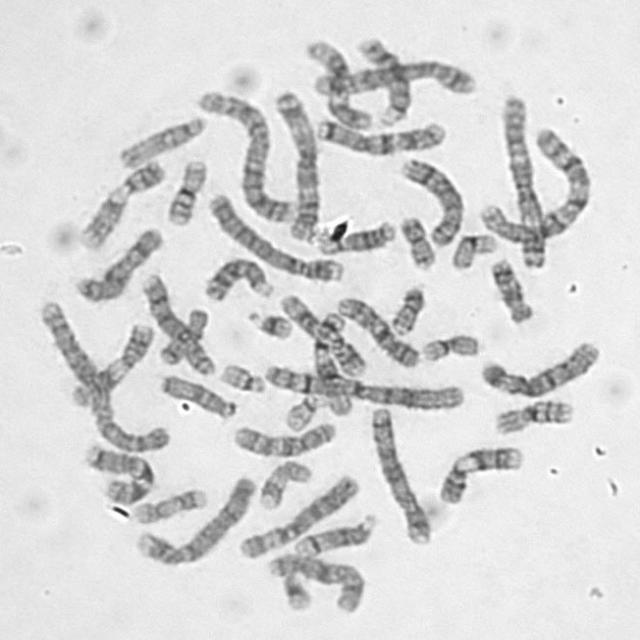A1: (472, 121, 594, 244), (256, 358, 468, 412)
A2: (31, 294, 171, 455), (190, 84, 296, 225)
A3: (496, 88, 550, 272), (268, 84, 323, 242)
B4: (200, 185, 347, 284), (129, 469, 258, 569)
B5: (364, 400, 434, 546), (305, 53, 480, 98)
C10: (331, 289, 421, 370), (226, 415, 338, 460)
C11: (64, 316, 156, 409), (275, 288, 367, 379)
C12: (299, 33, 375, 131), (308, 306, 354, 418)
C6: (232, 468, 362, 560), (473, 334, 602, 400)
C7: (309, 112, 449, 156), (78, 437, 158, 506)
C8: (135, 268, 218, 378), (393, 150, 467, 249)
C9: (71, 151, 167, 252), (432, 438, 526, 506)
D13: (352, 38, 414, 134), (196, 250, 277, 303)
D14: (287, 507, 380, 559), (310, 213, 399, 256)
D15: (112, 109, 209, 170), (153, 368, 239, 421)
E16: (488, 393, 576, 437), (159, 153, 209, 227)
E17: (127, 481, 210, 527), (251, 453, 314, 512)
E18: (484, 253, 536, 325), (152, 303, 210, 367)
F19: (415, 327, 483, 363), (444, 227, 498, 271)
F20: (392, 209, 438, 271), (384, 279, 428, 336)
G21: (240, 303, 296, 341), (275, 565, 315, 613)
G22: (278, 387, 325, 433), (214, 356, 269, 395)
X: (68, 221, 165, 305), (261, 548, 366, 616)
